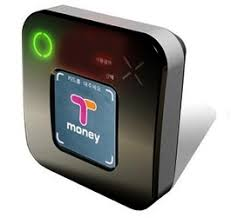terminal: (16, 5, 195, 212)
